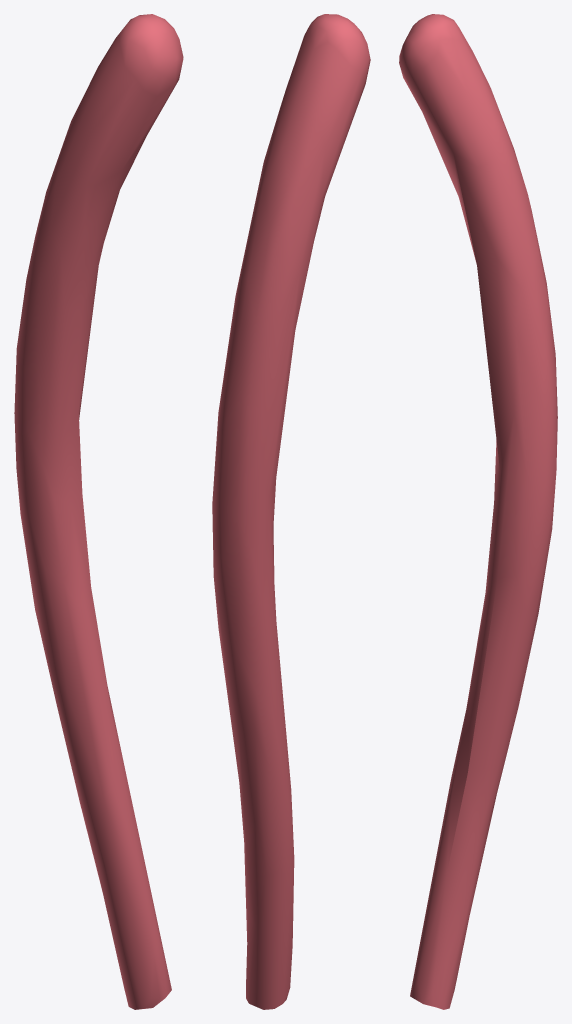
File: fma13292_fj6014.glb
The picture shows the model from 3 angles, left to right: view 1: azimuth 90°, elevation 25°; view 2: azimuth 150°, elevation 25°; view 3: azimuth 270°, elevation 25°; orthographic projection. The views are drawn at different scales.
Visible parts, largest first — view 1: FMA13292_FJ6014; view 2: FMA13292_FJ6014; view 3: FMA13292_FJ6014.
Part boxes in pixels (<box>): FMA13292_FJ6014: <box>14,14,183,1009</box>; FMA13292_FJ6014: <box>212,14,370,1009</box>; FMA13292_FJ6014: <box>399,14,557,1009</box>.
Bounding box in the file's own units: 0.00753 × 0.0604 × 0.00908.
